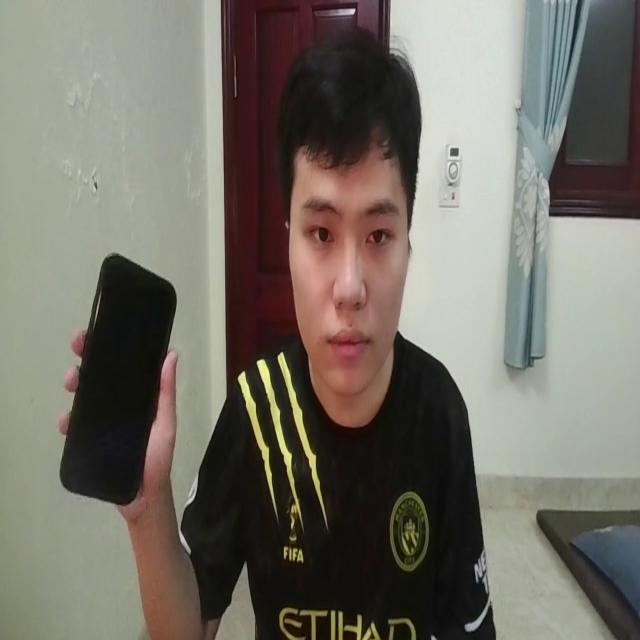phone: (54, 235, 175, 508)
student: (64, 23, 496, 640)
